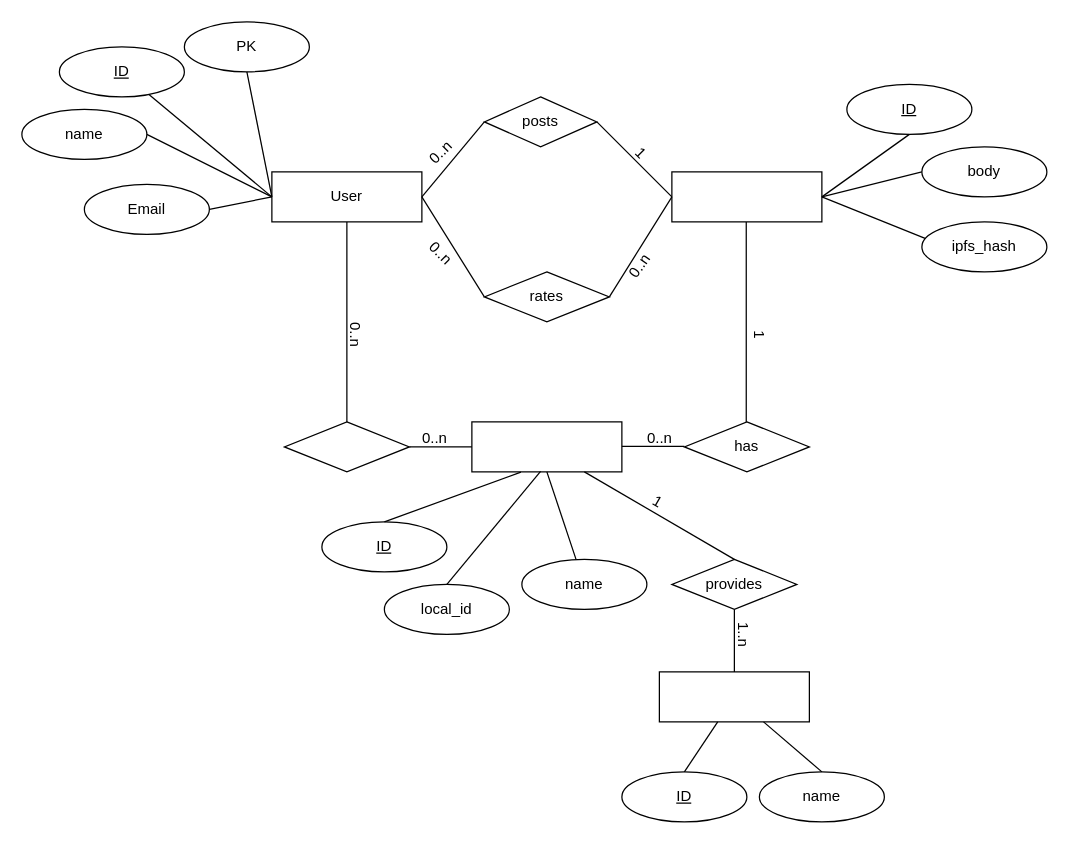
Some shapes in this 1069 by 844 pixel diagram are drawn without their labels. The centre of each missing label's shape, as x and y in pixels:
buys: point (346, 446)
Product: point (546, 446)
Review: point (746, 196)
Store: point (733, 696)
